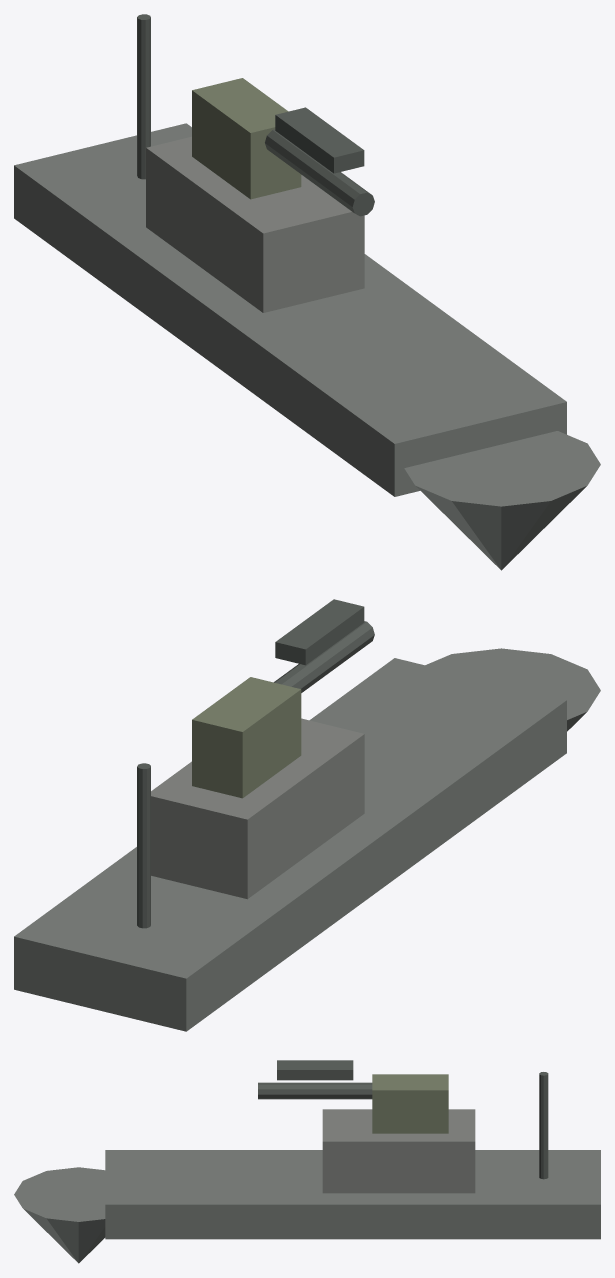
Rendered from destroyer.glb.
3 renders of one model, top to bottom at view 1: azimuth 30°, elevation 25°; view 2: azimuth 150°, elevation 25°; view 3: azimuth 270°, elevation 25°, orthographic. The views are drawn at different scales.
Visible parts, largest first — view 1: p0, p2, p1, p3, p5, p4, p6; view 2: p0, p2, p3, p1, p5, p6, p4; view 3: p0, p2, p1, p3, p4, p5, p6.
Part boxes in pixels (x1,y1,x2,y2): p0: (14, 123, 566, 496); p2: (146, 136, 364, 312); p1: (404, 431, 600, 570); p3: (192, 78, 301, 199); p5: (275, 107, 364, 173); p4: (265, 129, 374, 216); p6: (137, 14, 150, 179); p0: (14, 658, 566, 1031); p2: (151, 718, 364, 899); p3: (192, 677, 301, 798); p1: (425, 648, 600, 731); p5: (275, 599, 364, 665); p6: (137, 763, 150, 928); p4: (274, 621, 374, 692); p0: (105, 1150, 600, 1239); p2: (322, 1109, 475, 1193); p1: (14, 1167, 105, 1263); p3: (372, 1074, 448, 1133); p4: (258, 1082, 372, 1099); p5: (277, 1060, 353, 1080); p6: (539, 1072, 548, 1179).
Size of the model in its own units: 3.4 by 5.75 by 15.4.
